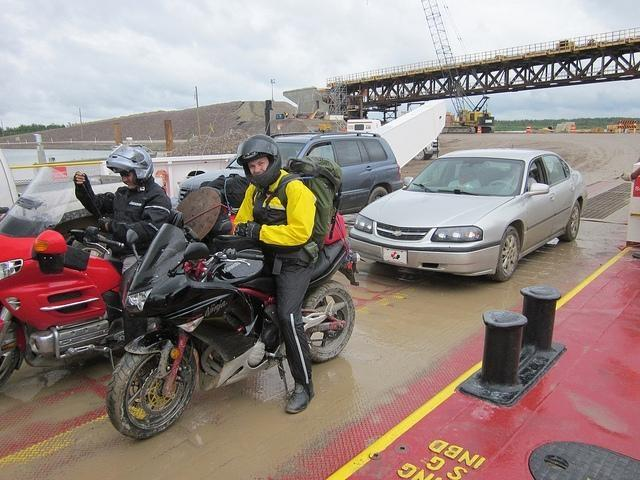car: (350, 148, 589, 283), (178, 130, 404, 216)
motorcycle: (109, 223, 358, 441), (2, 165, 155, 382)
